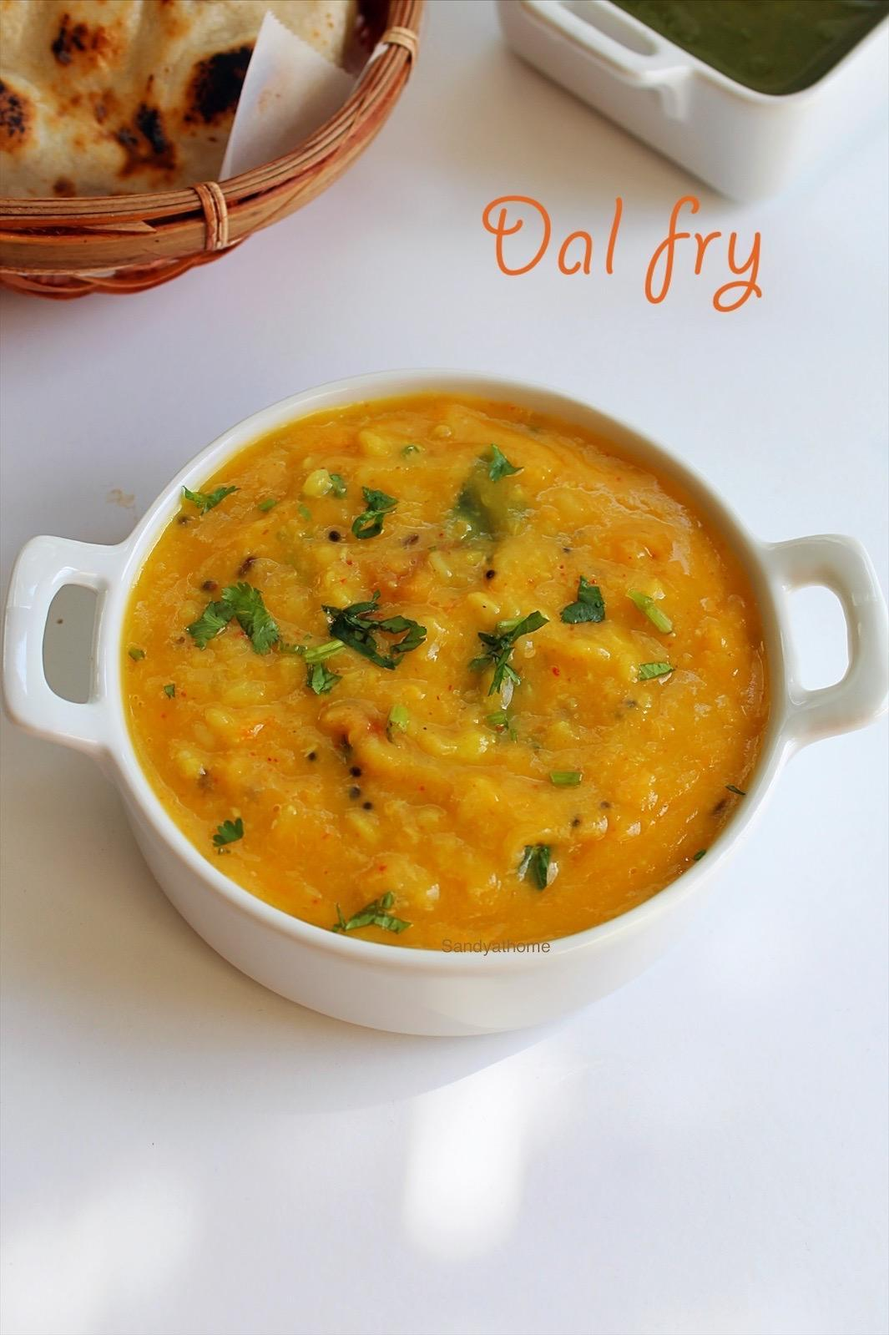dal: (138, 392, 778, 966)
roti: (0, 0, 342, 194)
